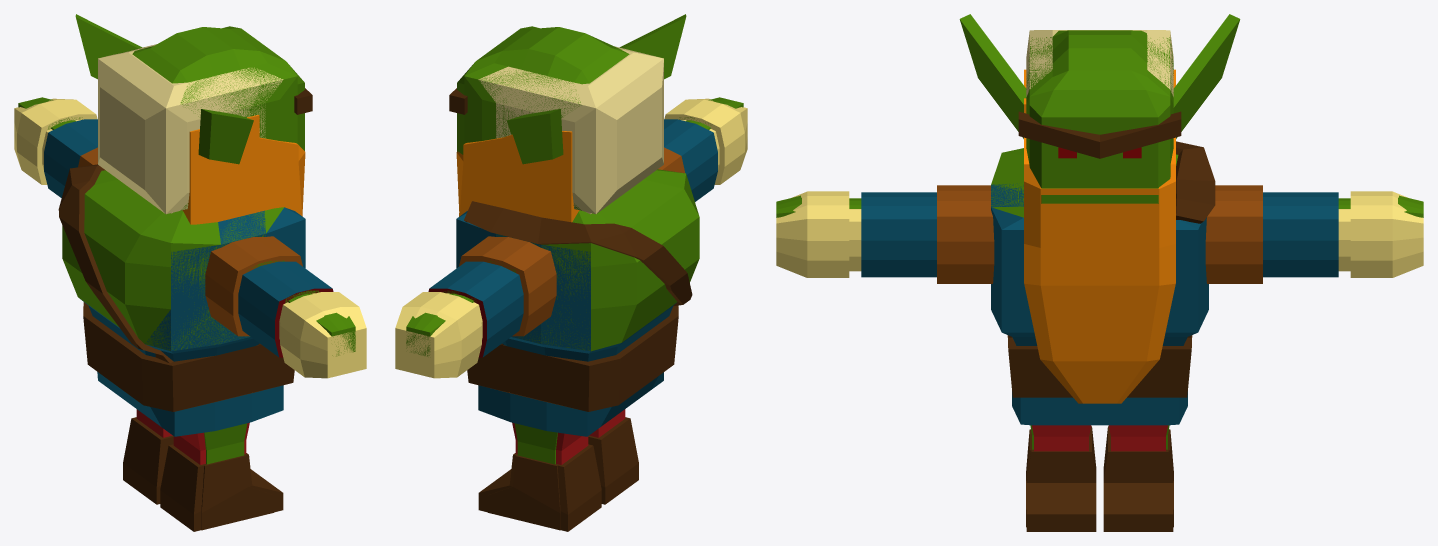
The model's file is Citizen1.fbx.
3 renders of one model, left to right at view 1: azimuth 30°, elevation 25°; view 2: azimuth 150°, elevation 25°; view 3: azimuth 270°, elevation 25°, orthographic. The views are drawn at different scales.
Visible parts, largest first — view 1: Cube, Cube.005, Cube.002, Cube.004, Cube.001, Cube.006, Cube.009, Cube.007; view 2: Cube, Cube.005, Cube.002, Cube.004, Cube.001, Cube.006, Cube.009, Cube.007; view 3: Cube.002, Cube.004, Cube.005, Cube, Cube.001, Cube.009, Cube.010, Cube.007.
Part boxes in pixels (box(x1,y1,x2,y2)): Cube: box(80, 44, 305, 436); Cube.005: box(58, 26, 304, 392); Cube.002: box(14, 98, 366, 378); Cube.004: box(182, 114, 305, 224); Cube.001: box(123, 409, 283, 531); Cube.006: box(201, 423, 274, 530); Cube.009: box(75, 14, 253, 164); Cube.007: box(18, 97, 355, 356); Cube: box(456, 47, 678, 436); Cube.005: box(457, 26, 699, 392); Cube.002: box(395, 98, 747, 378); Cube.004: box(456, 131, 579, 222); Cube.001: box(478, 409, 638, 531); Cube.006: box(487, 423, 560, 530); Cube.009: box(507, 14, 686, 164); Cube.007: box(406, 97, 743, 356); Cube.002: box(776, 185, 1423, 283); Cube.004: box(1024, 69, 1175, 403); Cube.005: box(991, 30, 1215, 337); Cube: box(991, 30, 1208, 425); Cube.001: box(1026, 425, 1173, 531); Cube.009: box(959, 14, 1240, 138); Cube.010: box(1018, 111, 1181, 158); Cube.007: box(776, 195, 1423, 217).
Bounding box in the file's own units: 343 × 735 × 921.
